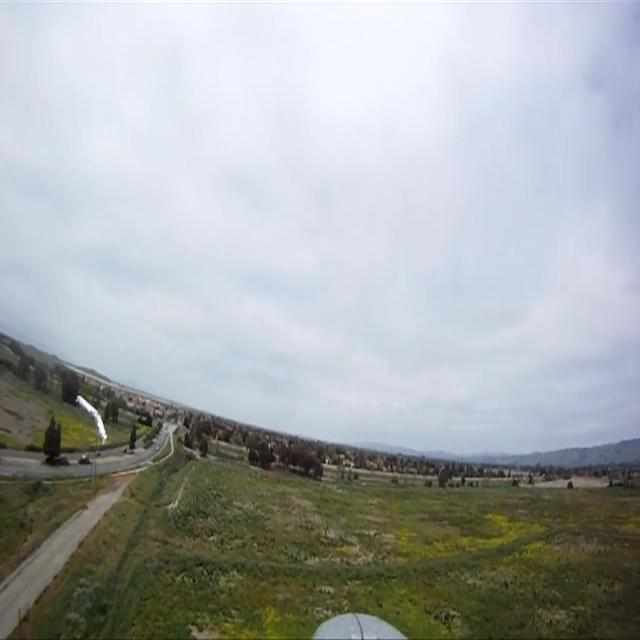iha: (9, 390, 47, 448)
